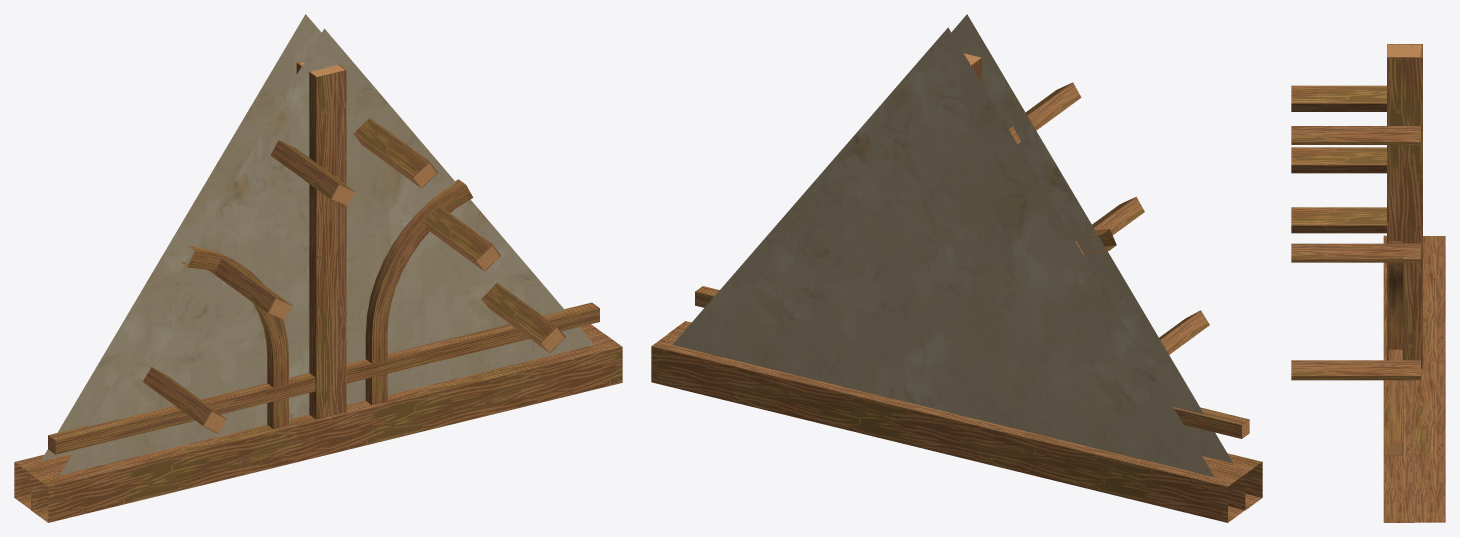
File: Roof_Front_Brick4.glb
3 renders of one model, left to right at view 1: azimuth 30°, elevation 25°; view 2: azimuth 150°, elevation 25°; view 3: azimuth 270°, elevation 25°, orthographic. The views are drawn at different scales.
Parts seen in each view (by area): view 1: Roof_Front_Brick4; view 2: Roof_Front_Brick4; view 3: Roof_Front_Brick4.
Part boxes in pixels (x1,y1,x2,y2): Roof_Front_Brick4: (14, 14, 622, 522); Roof_Front_Brick4: (651, 14, 1262, 522); Roof_Front_Brick4: (1291, 44, 1445, 522).
Bounding box in the file's own units: 4.4 × 3.07 × 1.13.
2 materials, 2 textured.
